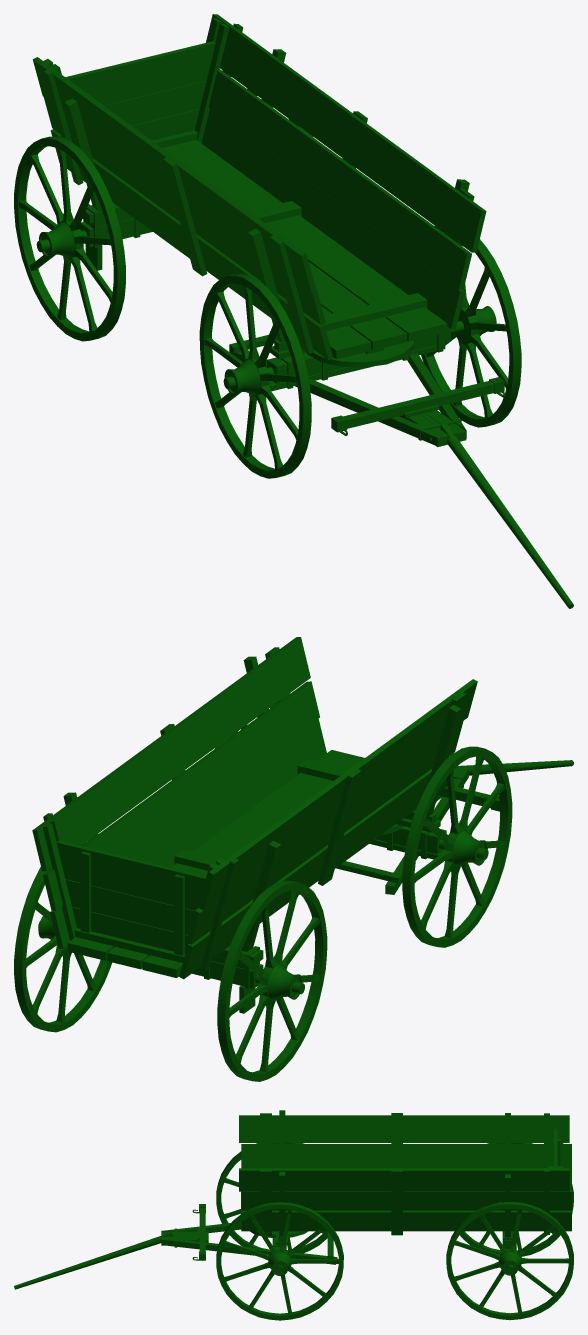
The model's file is cartload1.FBX.
The picture shows the model from 3 angles, top to bottom: view 1: azimuth 30°, elevation 25°; view 2: azimuth 150°, elevation 25°; view 3: azimuth 270°, elevation 25°; orthographic projection. The views are drawn at different scales.
Visible parts, largest first — view 1: SM_cartload01_0; view 2: SM_cartload01_0; view 3: SM_cartload01_0.
Boxes of the visible parts, x1,y1,x2,y2 form: SM_cartload01_0: (14,14,573,608); SM_cartload01_0: (14,637,573,1081); SM_cartload01_0: (14,1110,573,1320).
Size of the model in its own units: 160 by 474 by 140.
